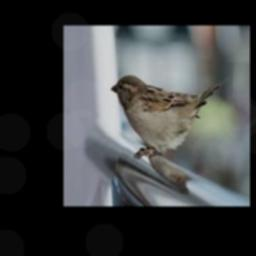Sparrow: (111, 76, 223, 158)
